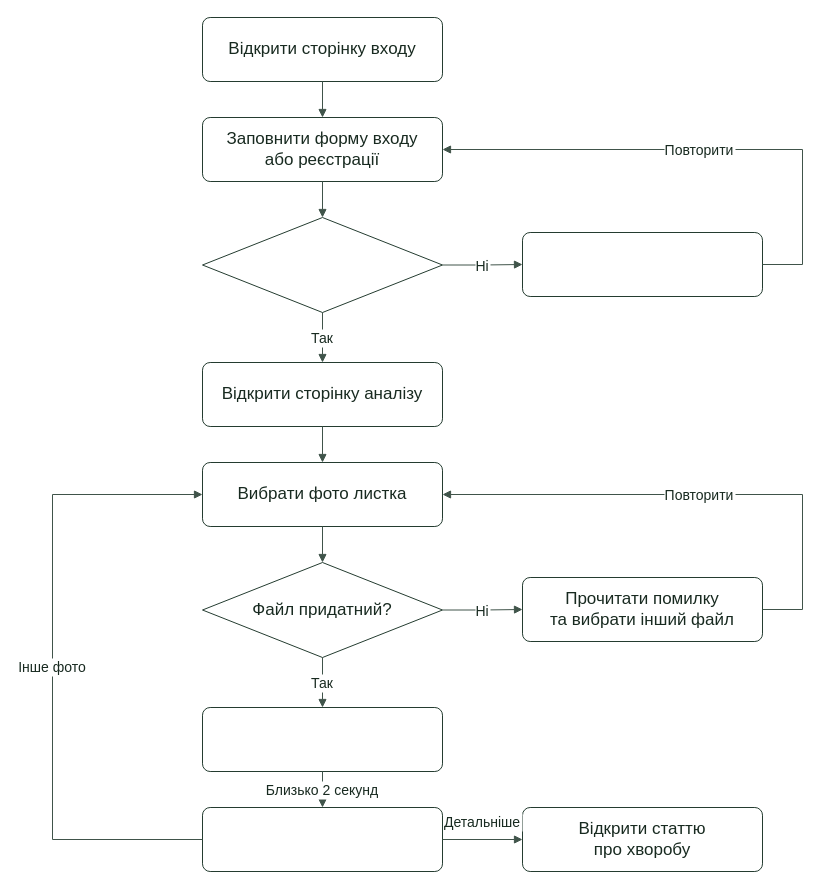
The diagram is 828 pixels wide and 889 high, and some of its shapes have lost their labels. Each missing label, with the centre of its shape:
"Виправити дані за повідомленням" goes at (642,264).
"Дочекатися результату Переглянути дашборд" goes at (322,839).
"Переглянути фото Запустити аналіз" goes at (322,739).
"Поля коректні?" goes at (322,264).
